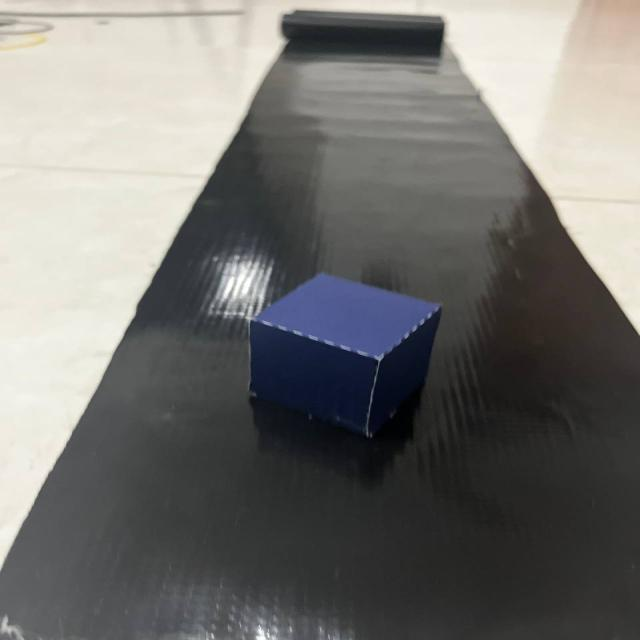Azul: (228, 258, 487, 454)
